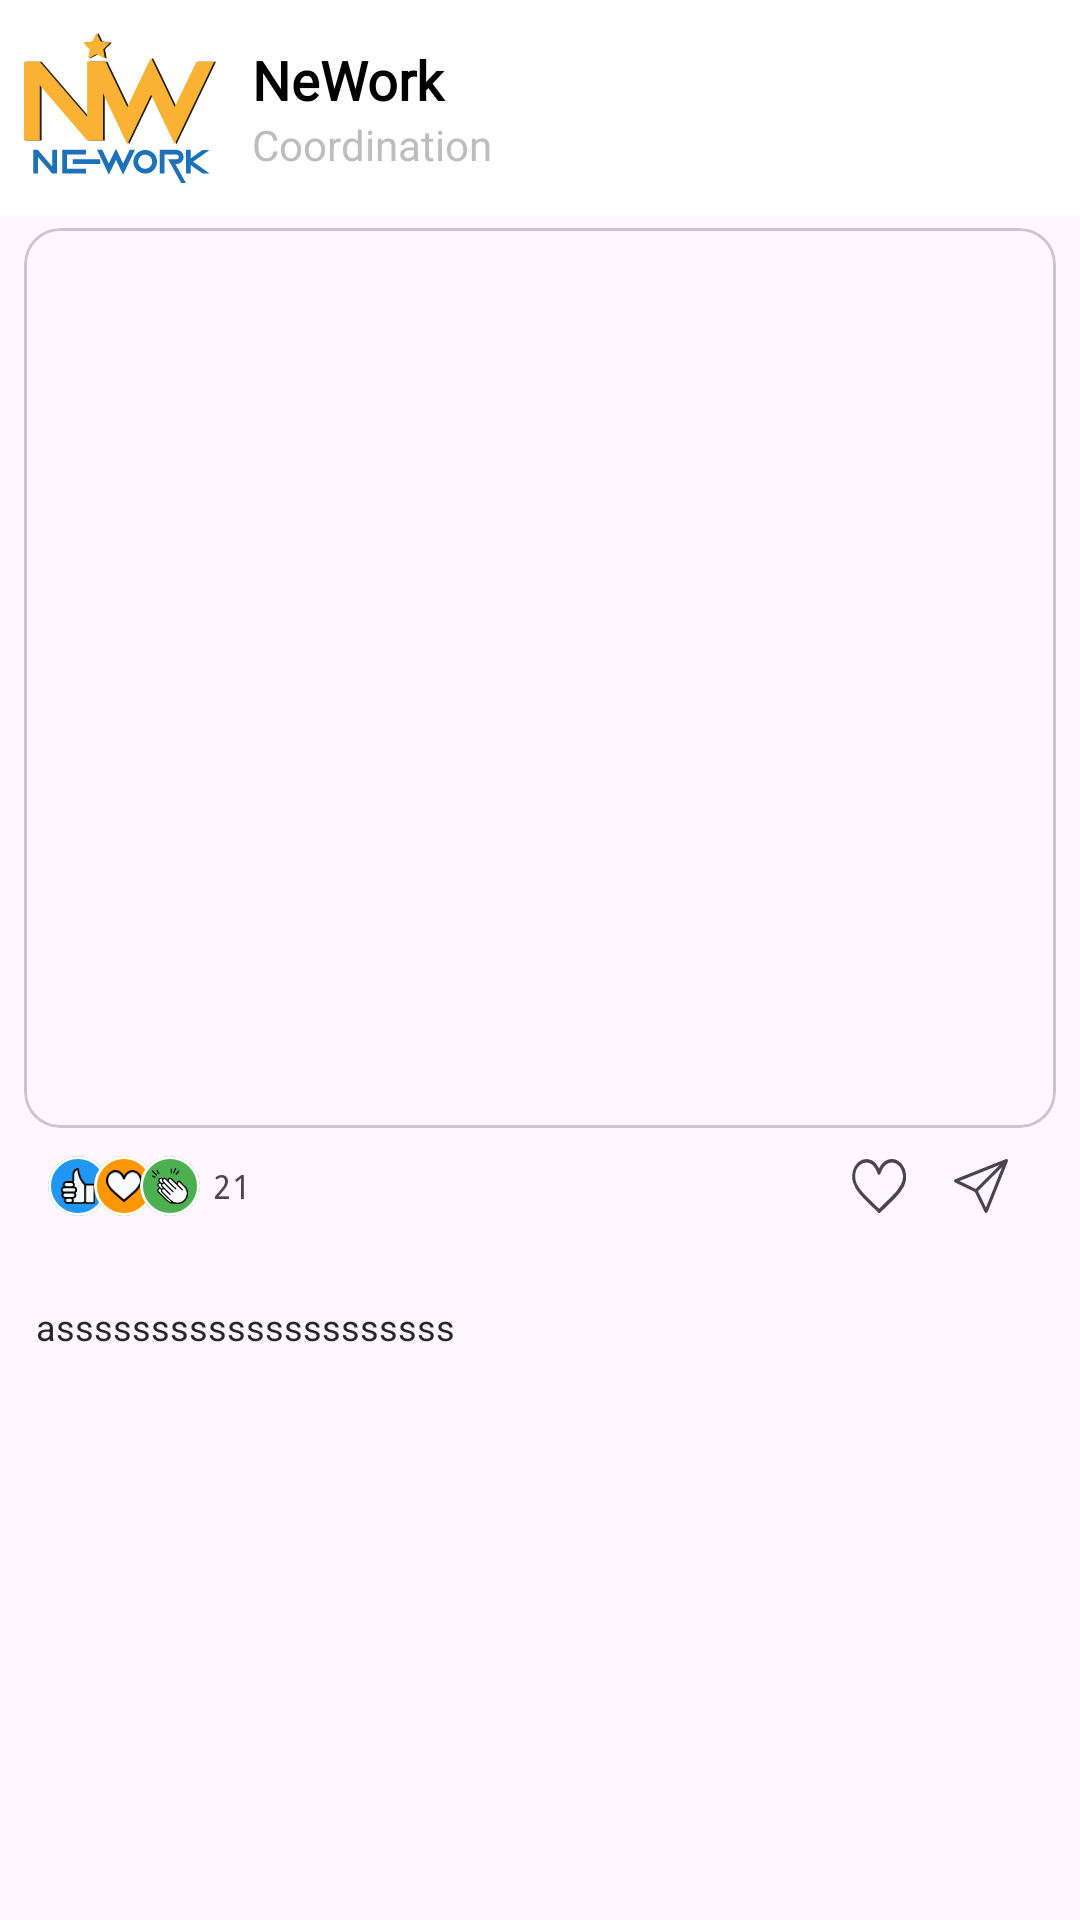

Where icons sit on this 1080 x 1920 app screen, as (x1, y1, x2, y2):
clap: (140, 1156, 200, 1216)
hand like: (48, 1156, 108, 1216)
heart like: (97, 1156, 152, 1216)
like: (852, 1159, 906, 1213)
send: (954, 1159, 1008, 1213)
